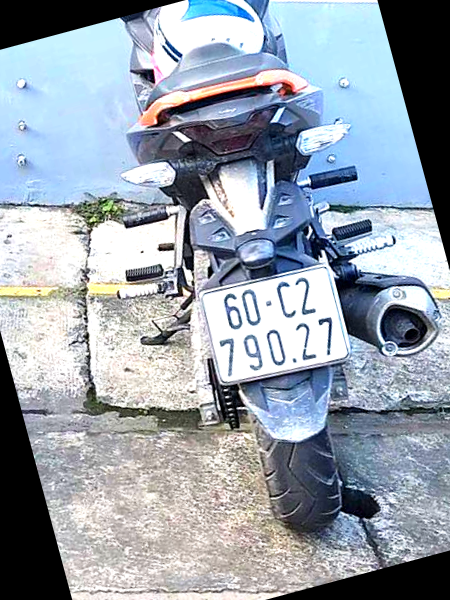number: (199, 262, 348, 386)
